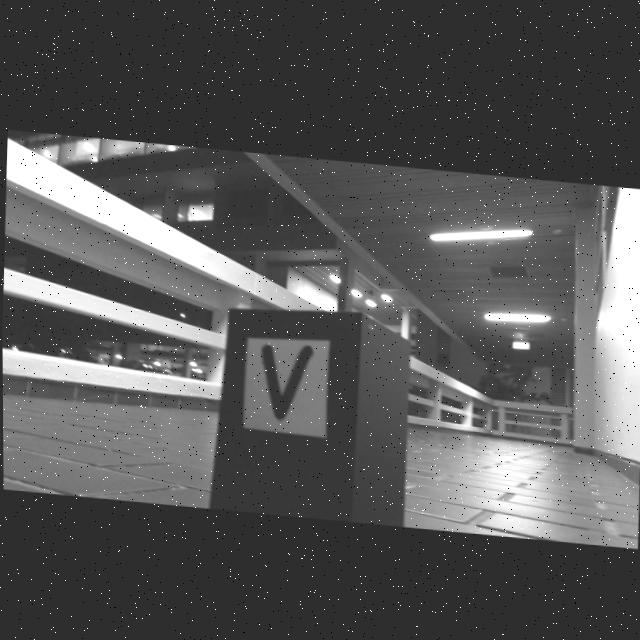V: (258, 341, 310, 417)
